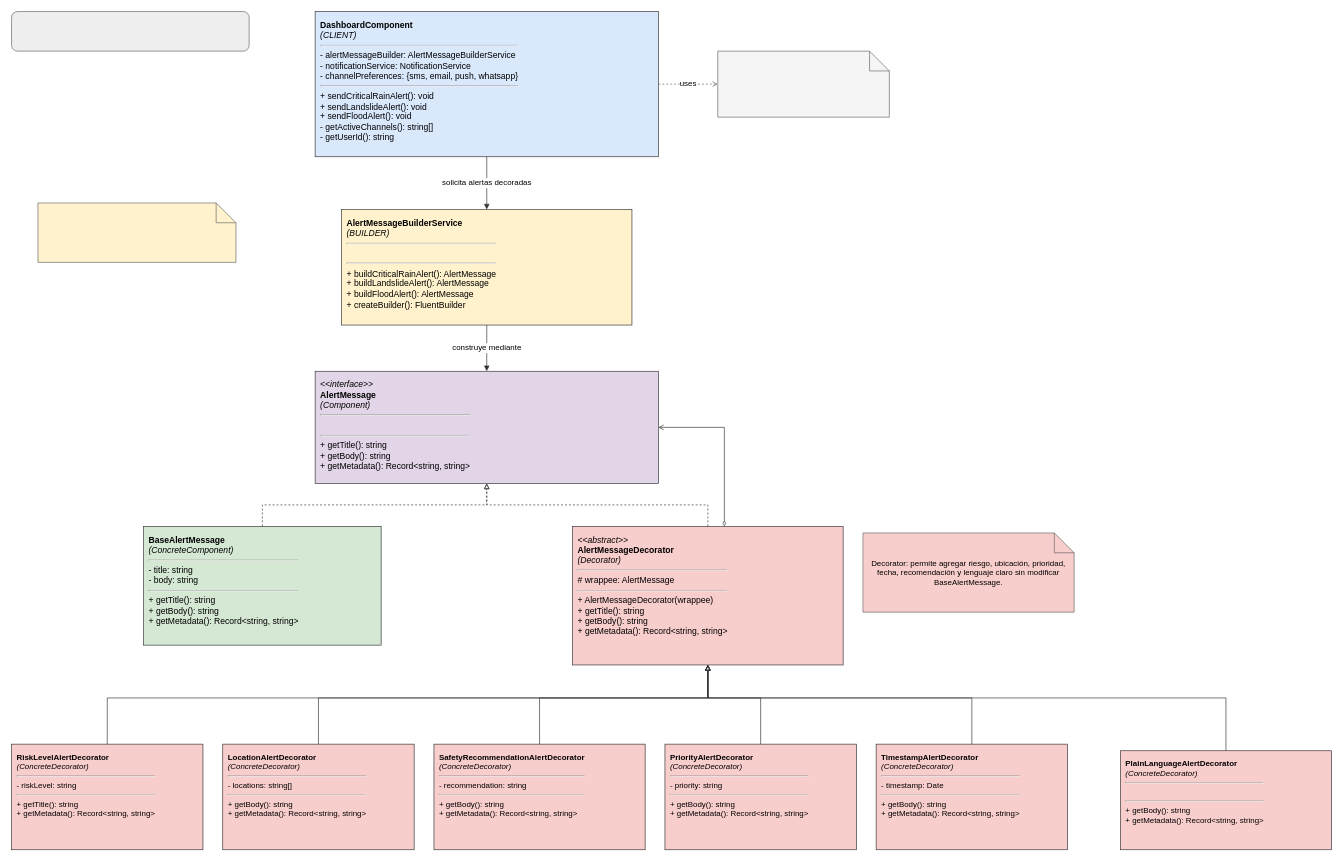
This 1343x861 diagram has some shape labels left out. The shapes that lost their labels are listed below. From the top down, each one's box as (x1, y1, x2, y2) in pixels, then its label:
(11, 11, 249, 51): Patrones aplicados: Builder + Decorator
(717, 50, 889, 117): usa NotificationService para enviar por canales activos
(37, 202, 236, 262): Builder: encapsula la construcción de mensajes de alerta preconfigurados.
